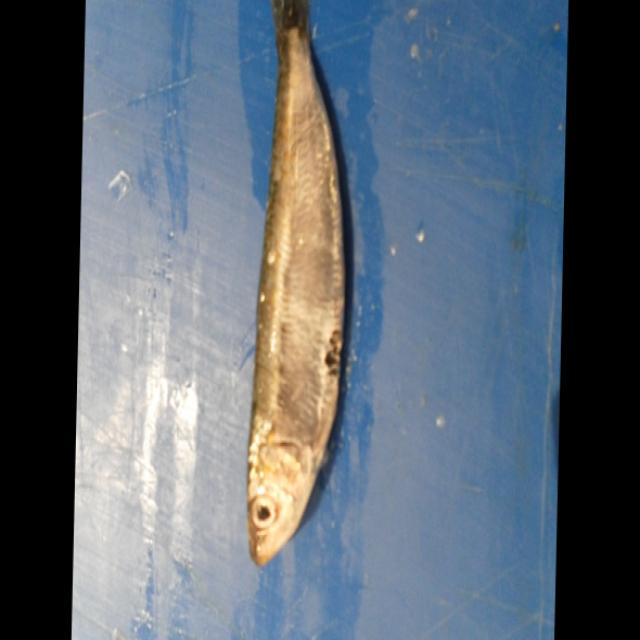Black-Sea-Sprat-tirsi-: (246, 0, 356, 568)
